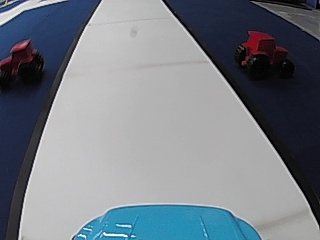tractor: (233, 29, 294, 80), (0, 37, 44, 88)
